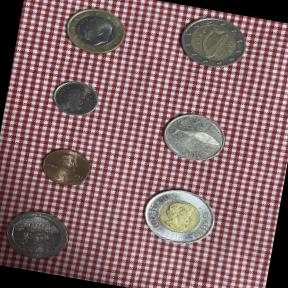coin: (133, 178, 225, 251), (150, 104, 233, 174), (170, 8, 252, 76), (55, 0, 136, 67), (0, 202, 78, 269), (36, 142, 96, 192), (45, 74, 105, 123)
